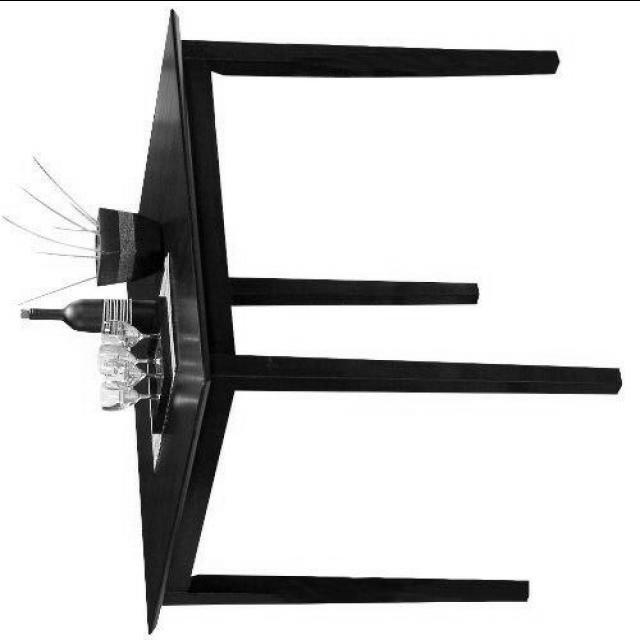table: (123, 8, 625, 632)
